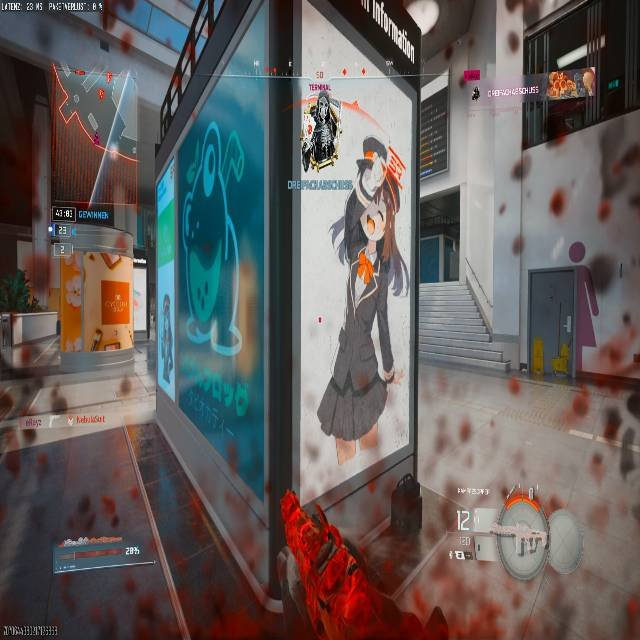player: (496, 110, 627, 379), (583, 67, 596, 95)
